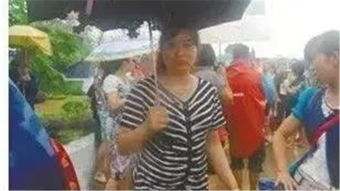10+: (10, 1, 339, 191)
